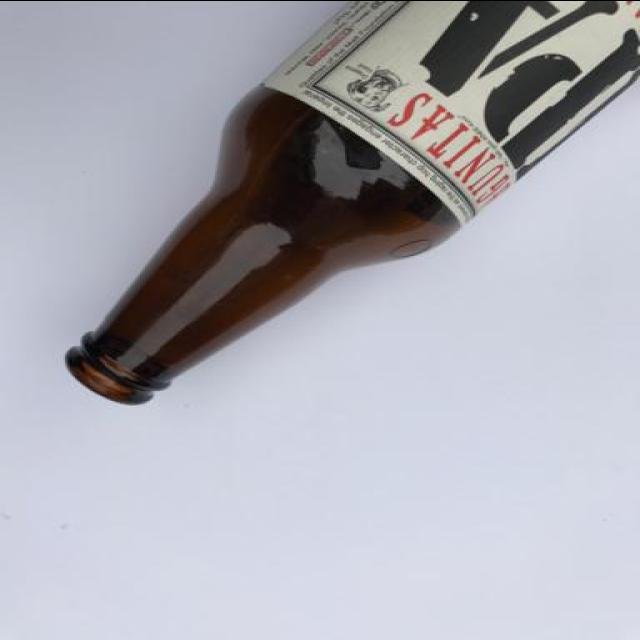Glass Bottle: (61, 1, 640, 405)
